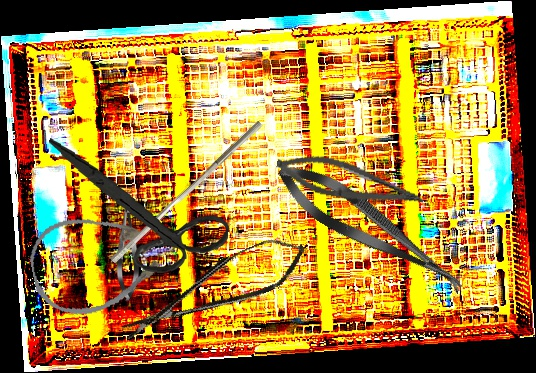Cannula: (23, 201, 174, 324)
Iris Scissors: (40, 137, 235, 278)
Micro Scissor: (268, 150, 474, 307), (112, 228, 314, 350), (272, 147, 429, 215), (117, 190, 139, 301)
Pusher: (109, 114, 263, 269)
